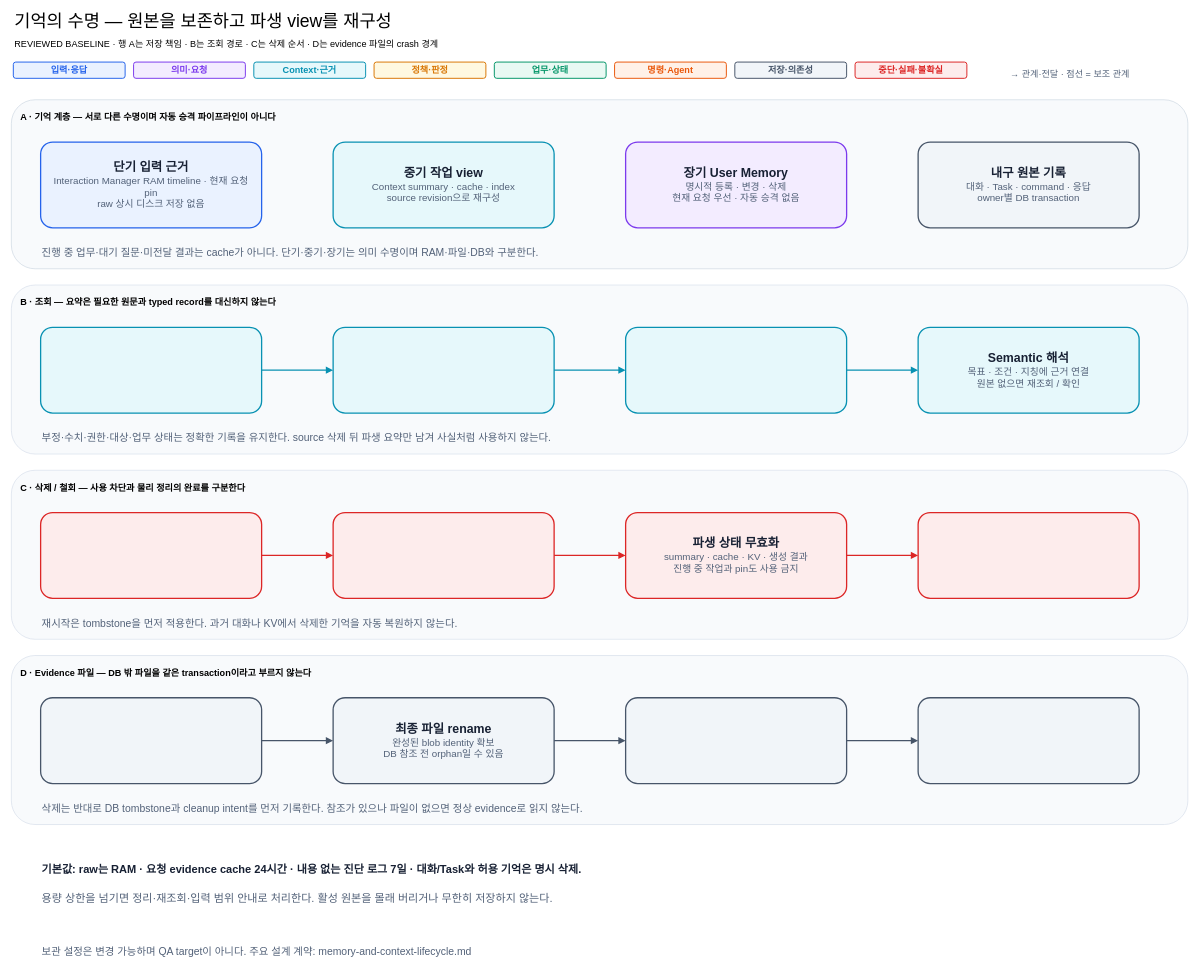
This 1199x970 diagram has some shape labels left out. Here are the shapes that lost their labels. From the top down, the centre of each, then its label:
the point at 151,369: 현재 요청 · 허용 범위 Request Controller의 query scope 입력 · 대상 · 대기 질문
the point at 443,369: Owner read / Source 원본 · typed ID · source version 후보 coverage · 누락 receipt
the point at 736,369: 검증된 Context view VALID summary + 필요한 원문 DIRTY / INVALID는 재구성
the point at 151,555: 삭제 대상 확정 Request Controller → Context Manager 대화 삭제와 기억 삭제 구분
the point at 443,555: Tombstone + epoch DB commit과 새 사용 차단 invalidation / cleanup intent
the point at 1028,555: 파일 정리 · 확인 PURGE_PENDING → 확인 상태 외부 복사본 삭제를 약속하지 않음
the point at 151,740: 임시 blob 기록 허용된 최소 crop / snapshot 쓰기 완료 · digest 확보
the point at 736,740: DB manifest commit owner · scope · expiry · digest 이 시점부터 참조 가능
the point at 1028,740: 복구 / 회수 누락은 EVIDENCE_GAP orphan · cleanup intent 재처리
